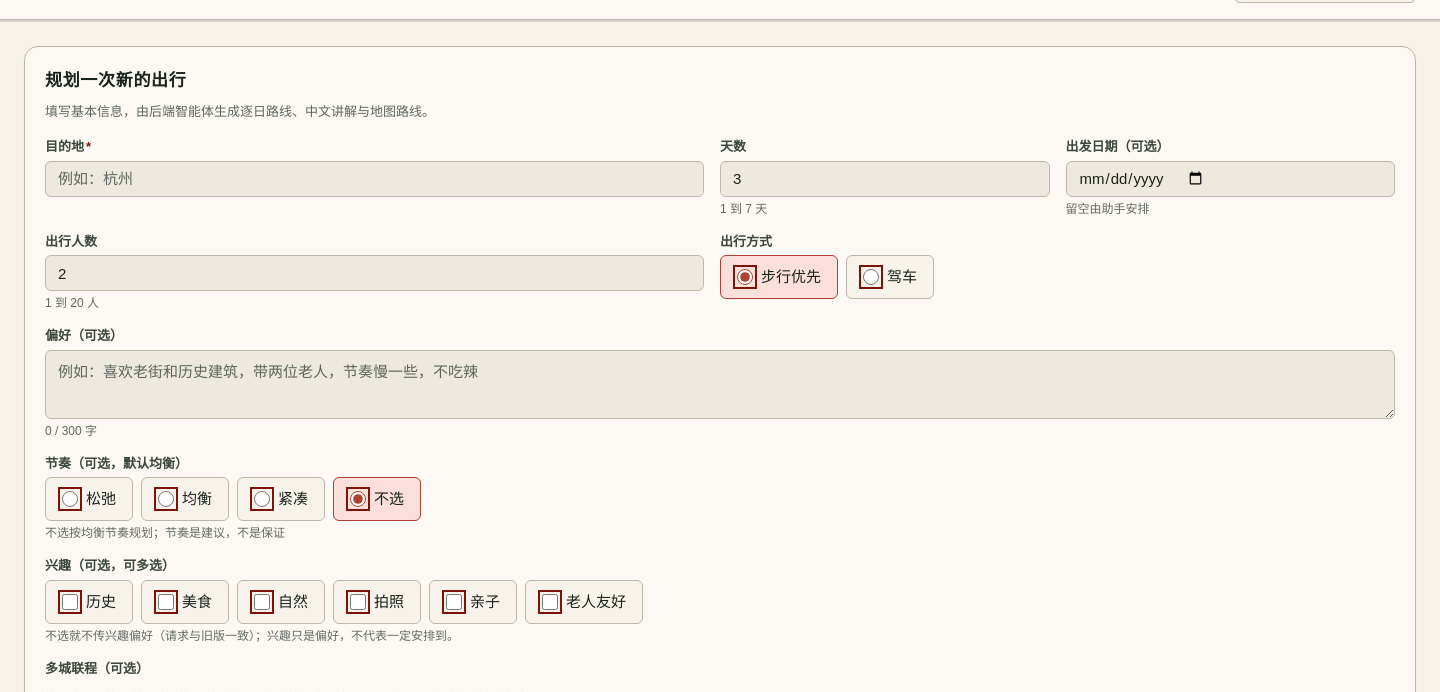
App × 节日印章（六期 S3 彩蛋②） › 规划行程日期命中 2026 端午 → 落印带「端午安康」小字
Type "杭州" into the field labelled "目的地*" at (374, 178), box [45,160,704,196]
(page scrolled)
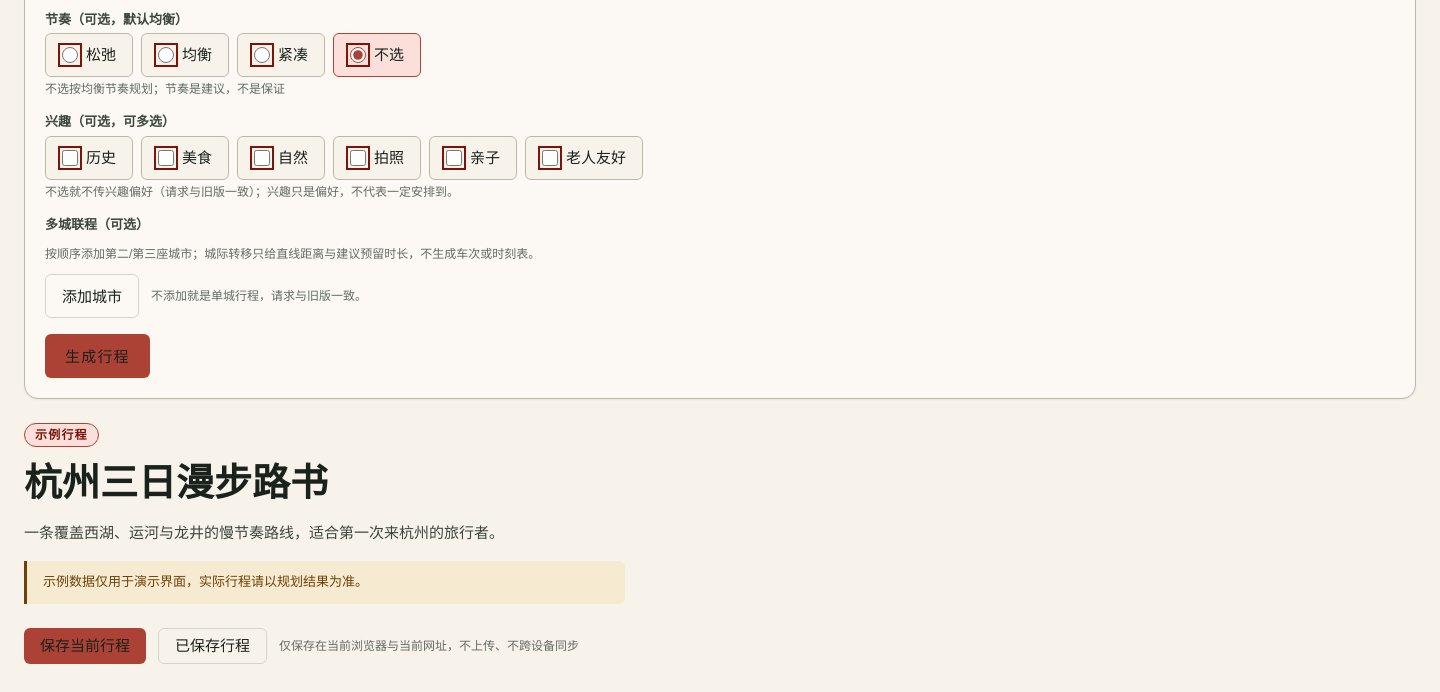
Click the button "生成行程" at (97, 356), box [45,334,150,378]
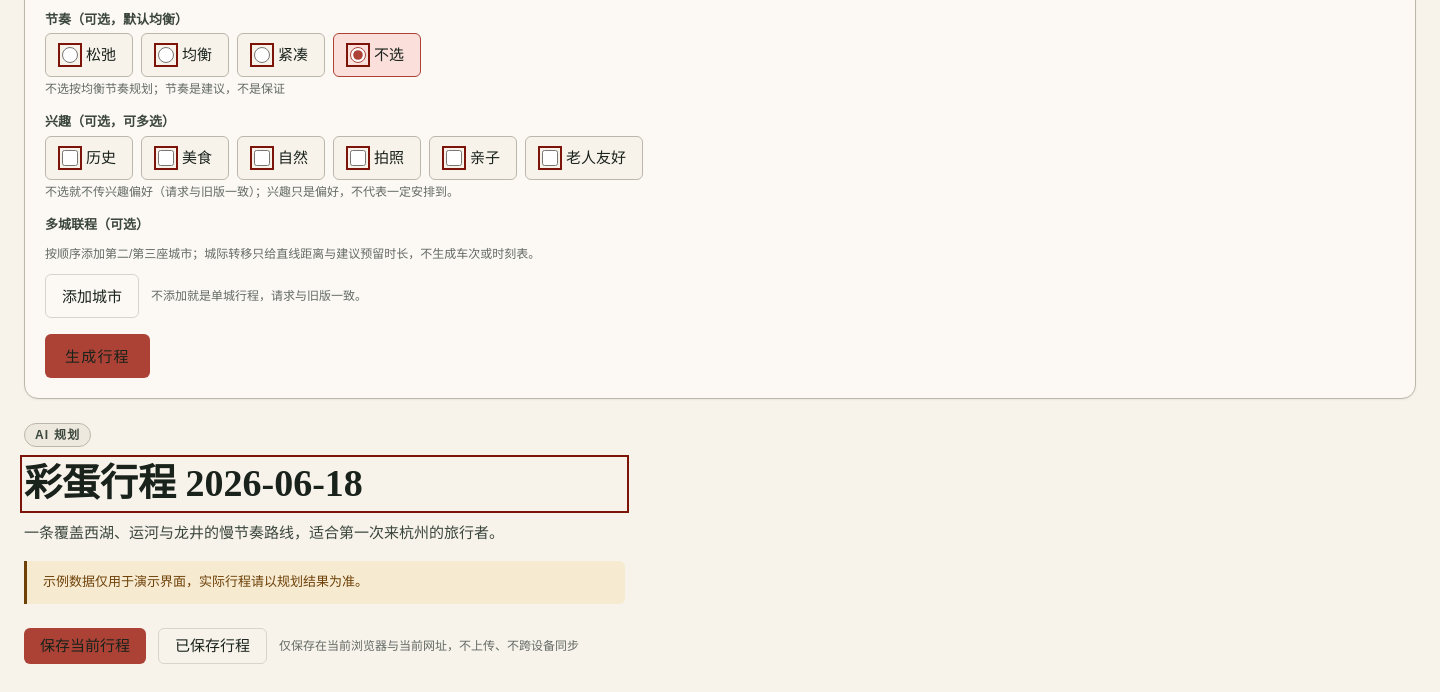
Expected: the heading "彩蛋行程 2026-06-18" is shown, [24,462,363,504]
